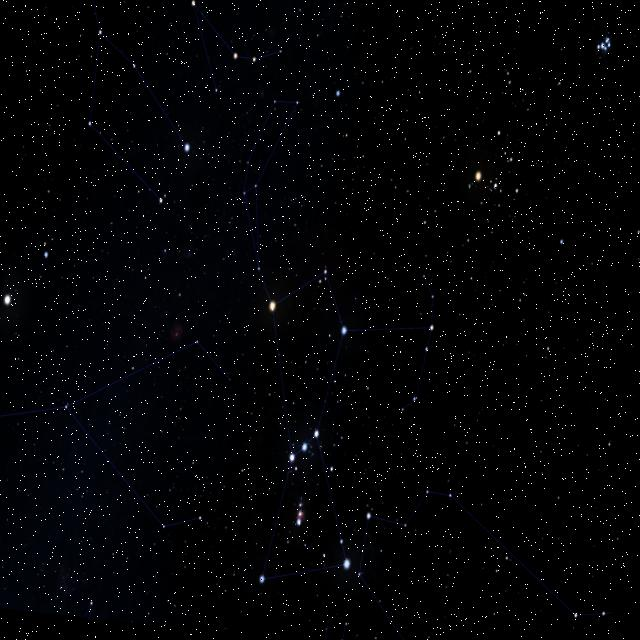Orionlines: (191, 93, 466, 602)
